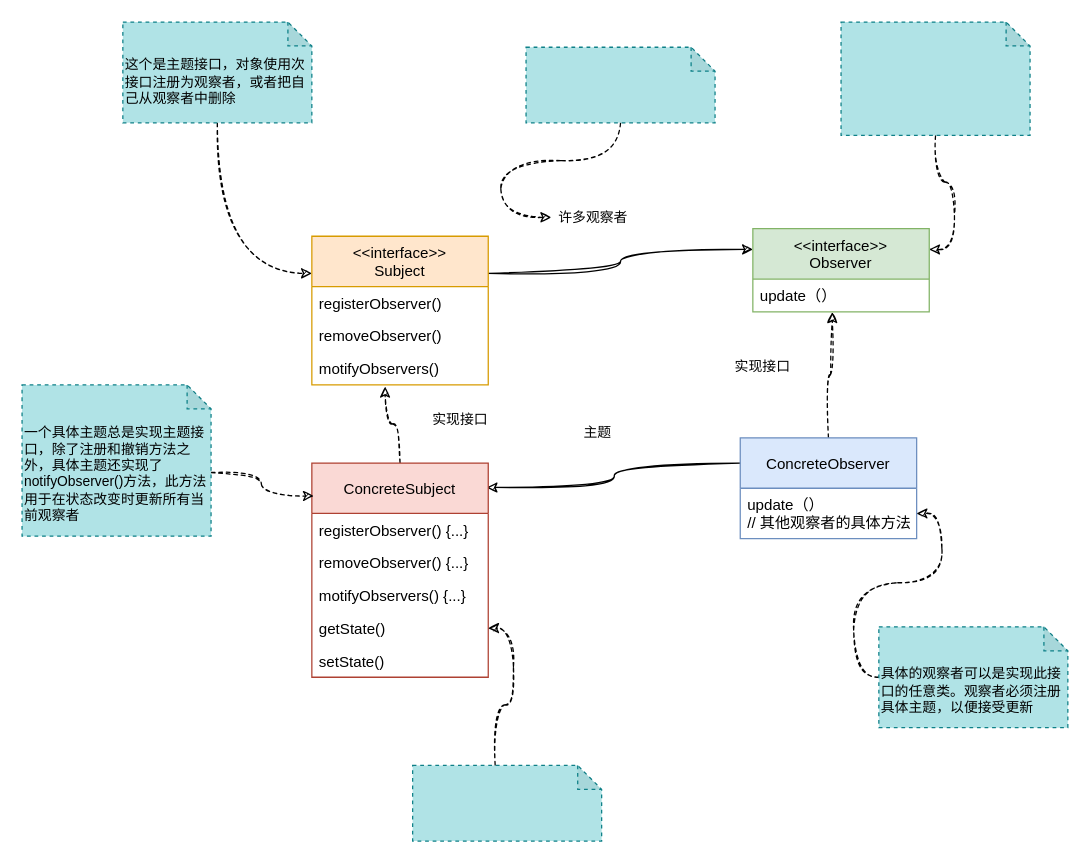
Some shapes in this 1090 by 863 pixel diagram are drawn without their labels. The shapes that lost their labels are listed below. From the top down, each one's centre as x and y in pixels, then its label:
point 620,84: 每个主题可以有许多观察者
point 935,78: 所有潜在的观察者必须实现观察者接口，这个接口只有update()一个方法，当主题状态改变时，它被调用
point 506,802: 具体主题也可能有设置和获取状态的方法
